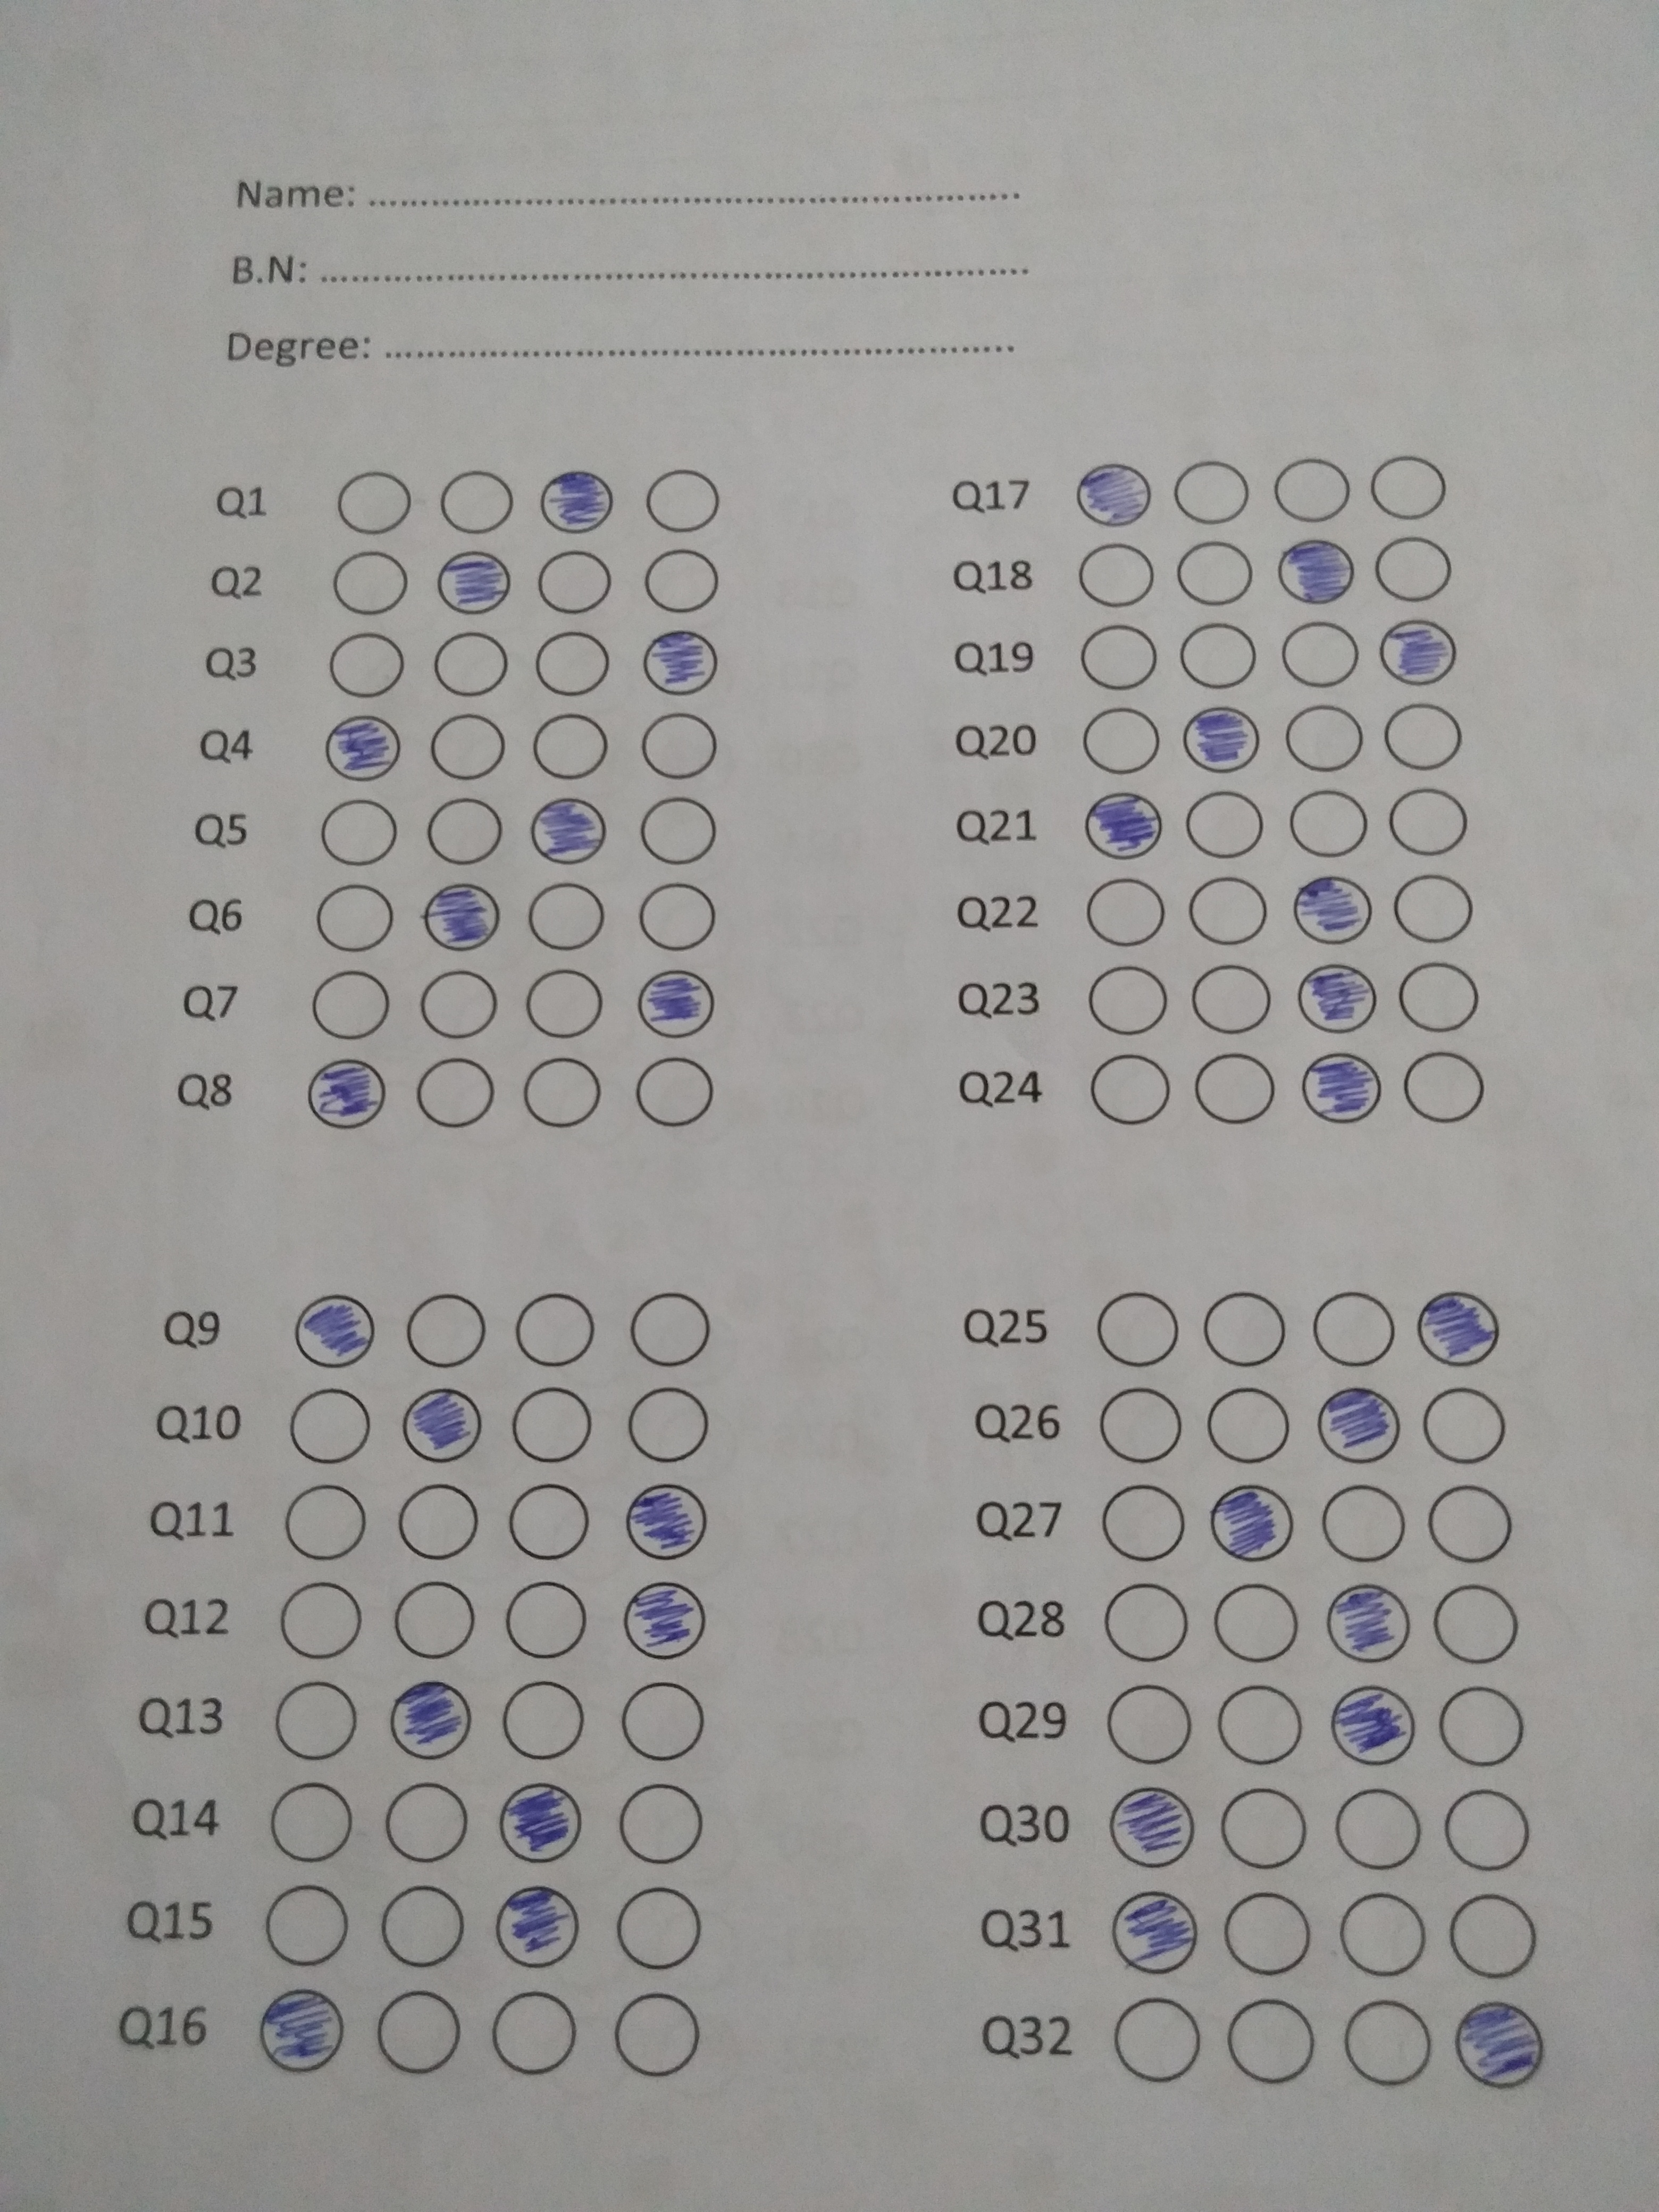not-c: (1441, 1784, 1534, 1876), (613, 1991, 704, 2083), (1436, 1679, 1528, 1770), (1222, 1886, 1316, 1975), (1333, 1787, 1424, 1878), (1342, 1996, 1432, 2087), (260, 1881, 352, 1970), (610, 1886, 704, 1973), (1448, 1893, 1540, 1980), (1213, 1683, 1307, 1768), (490, 1987, 579, 2076), (382, 1778, 472, 1865), (1105, 1681, 1197, 1766), (502, 1576, 591, 1663), (1338, 1890, 1425, 1979), (505, 1379, 592, 1467), (375, 1987, 462, 2074), (1114, 1996, 1201, 2083), (615, 1778, 704, 1864), (1222, 1782, 1307, 1871), (378, 1886, 469, 1970), (495, 1681, 587, 1763), (1422, 1381, 1509, 1467), (1436, 1581, 1523, 1667), (387, 1580, 479, 1660), (268, 1778, 354, 1864), (1215, 1581, 1300, 1667), (1229, 1996, 1314, 2081), (622, 1379, 709, 1463), (620, 1679, 708, 1763), (1206, 1385, 1295, 1467), (284, 1386, 375, 1467), (1307, 1287, 1398, 1367), (507, 1292, 599, 1371), (1098, 1583, 1192, 1660), (272, 1679, 359, 1761), (1319, 1482, 1408, 1562), (1429, 1484, 1513, 1568), (277, 1580, 366, 1658), (1401, 1049, 1490, 1127), (1082, 1052, 1173, 1129), (404, 1287, 488, 1369), (396, 1480, 479, 1562), (281, 1482, 368, 1561), (1093, 1289, 1182, 1366), (1392, 963, 1483, 1038), (507, 1482, 591, 1562), (413, 1052, 498, 1130), (629, 1291, 714, 1369), (1202, 1291, 1290, 1367), (1192, 960, 1274, 1040), (1103, 1482, 1187, 1561), (1100, 1386, 1185, 1463), (519, 1052, 605, 1127), (1391, 873, 1476, 948), (1086, 963, 1175, 1035), (418, 965, 498, 1043), (1082, 876, 1166, 951), (521, 967, 606, 1040), (1077, 618, 1162, 691), (1190, 1052, 1277, 1123), (634, 1052, 714, 1129), (1373, 529, 1452, 606), (1281, 617, 1361, 691), (525, 880, 606, 953), (336, 465, 416, 538), (1082, 704, 1162, 777), (314, 881, 396, 953), (636, 881, 720, 951), (1281, 705, 1364, 775), (1185, 789, 1269, 859), (1288, 789, 1371, 859), (641, 705, 718, 780), (319, 794, 399, 866), (528, 709, 610, 779), (1389, 787, 1471, 857), (1187, 876, 1269, 946), (1171, 456, 1255, 524), (423, 796, 502, 867), (312, 968, 390, 1040), (425, 711, 505, 780), (1366, 453, 1450, 519), (1173, 540, 1256, 606), (441, 463, 518, 535), (638, 794, 714, 866), (1178, 624, 1255, 695), (1384, 704, 1460, 775), (326, 627, 404, 697), (643, 550, 721, 618), (1077, 543, 1157, 610), (647, 465, 720, 536), (1276, 455, 1349, 526), (331, 549, 408, 617), (535, 550, 612, 618), (434, 632, 507, 700), (532, 632, 610, 695)
taken-c: (1450, 2000, 1549, 2094), (488, 1883, 586, 1972), (258, 1982, 347, 2078), (1108, 1888, 1201, 1975), (1107, 1784, 1197, 1871), (1326, 1581, 1417, 1667), (622, 1576, 709, 1662), (385, 1677, 474, 1761), (497, 1782, 586, 1864), (1330, 1683, 1415, 1766), (1206, 1479, 1293, 1561), (295, 1289, 378, 1372), (1316, 1383, 1401, 1465), (1415, 1289, 1502, 1369), (1290, 960, 1380, 1036), (626, 1480, 709, 1562), (1298, 1049, 1385, 1127), (399, 1385, 481, 1467), (1290, 873, 1373, 949), (422, 876, 504, 953), (307, 1054, 387, 1130), (1073, 456, 1155, 531), (634, 967, 718, 1040), (1377, 615, 1460, 688), (322, 709, 403, 784), (1080, 787, 1162, 860), (1274, 538, 1361, 606), (1178, 705, 1262, 775), (526, 794, 606, 866), (436, 547, 512, 617), (537, 469, 617, 535), (641, 631, 721, 697)
